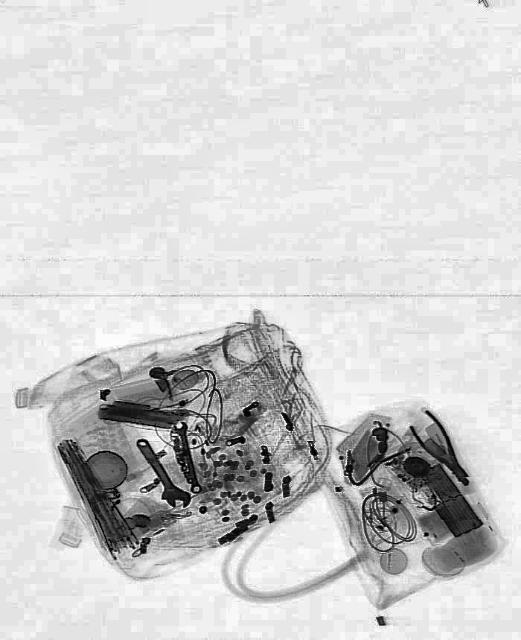Pliers: (406, 405, 478, 493)
Wrench: (127, 430, 193, 516), (170, 418, 204, 492)
